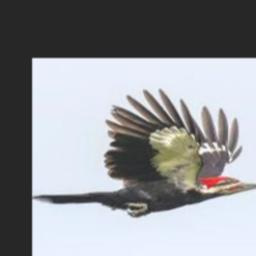Woodpecker: (33, 88, 256, 218)
